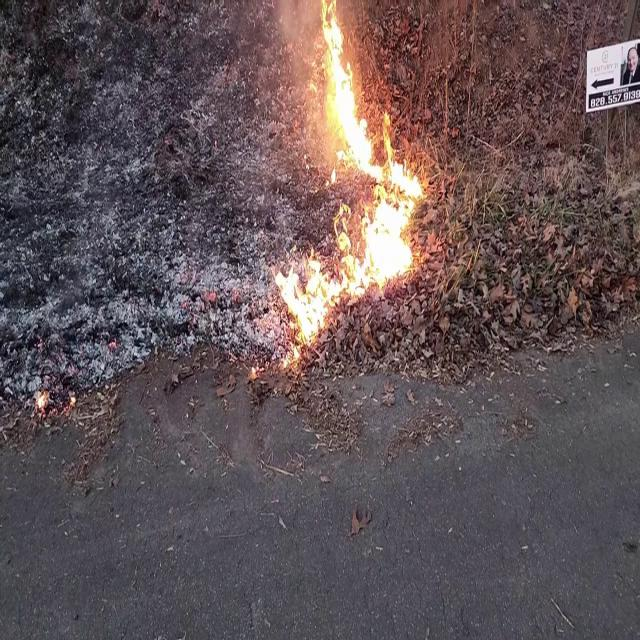Fire: (272, 1, 434, 347)
